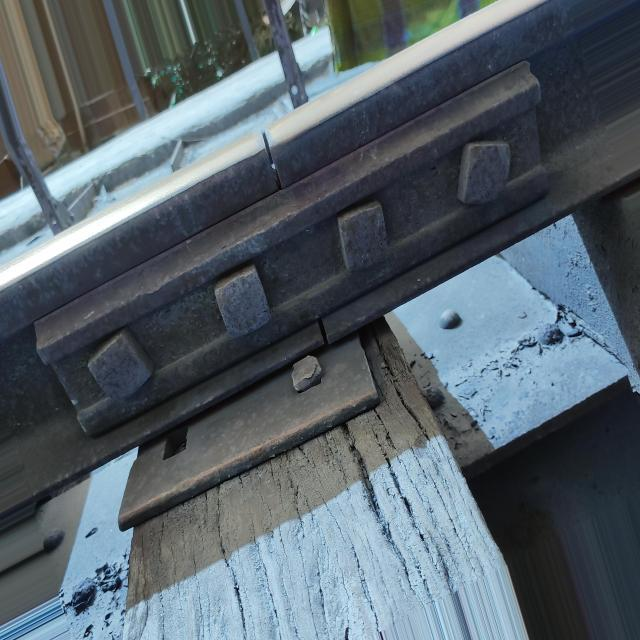Good Fasteners: (291, 355, 321, 393)
Good Joint: (33, 59, 549, 444)
Missing Dogscrew: (163, 426, 187, 460)
